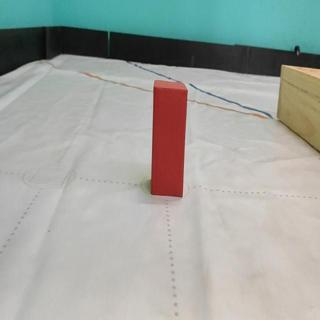redbox: (151, 77, 188, 197)
